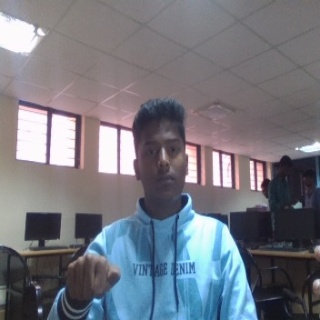Face: (132, 99, 192, 209)
Yes: (62, 252, 122, 311)
